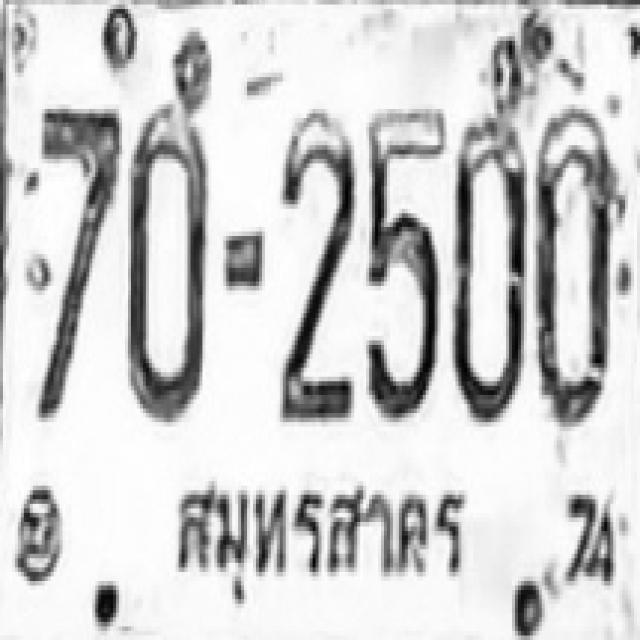0: (533, 104, 619, 427), (125, 109, 208, 422), (449, 112, 524, 424)
2: (278, 104, 356, 423)
5: (365, 105, 445, 422)
7: (34, 105, 121, 422)
SamutSakhon: (165, 470, 477, 603)
